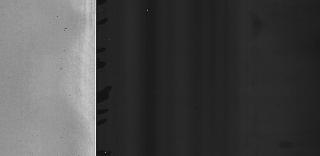inclusion: (62, 93, 72, 101), (61, 24, 69, 30)
silk spot: (1, 8, 42, 148)
